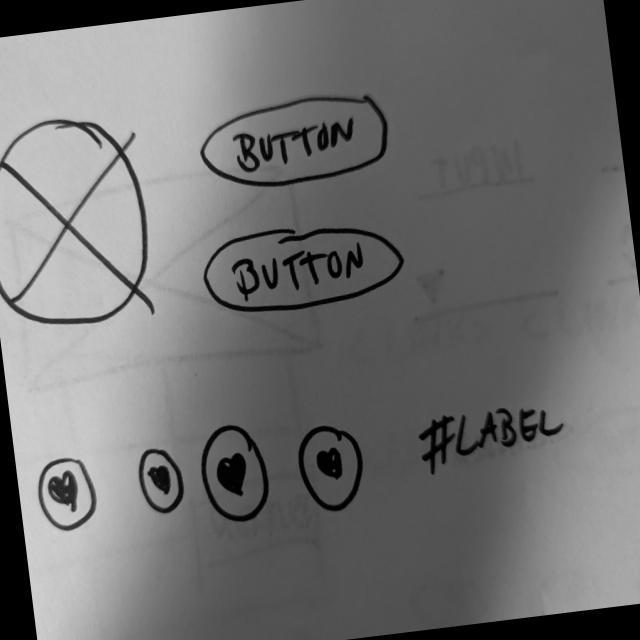button: (197, 212, 413, 323), (193, 86, 398, 202)
icon-button: (194, 417, 279, 532), (291, 418, 371, 520), (33, 451, 104, 539), (135, 441, 189, 520)
image: (1, 107, 161, 337)
label: (414, 394, 576, 481)
